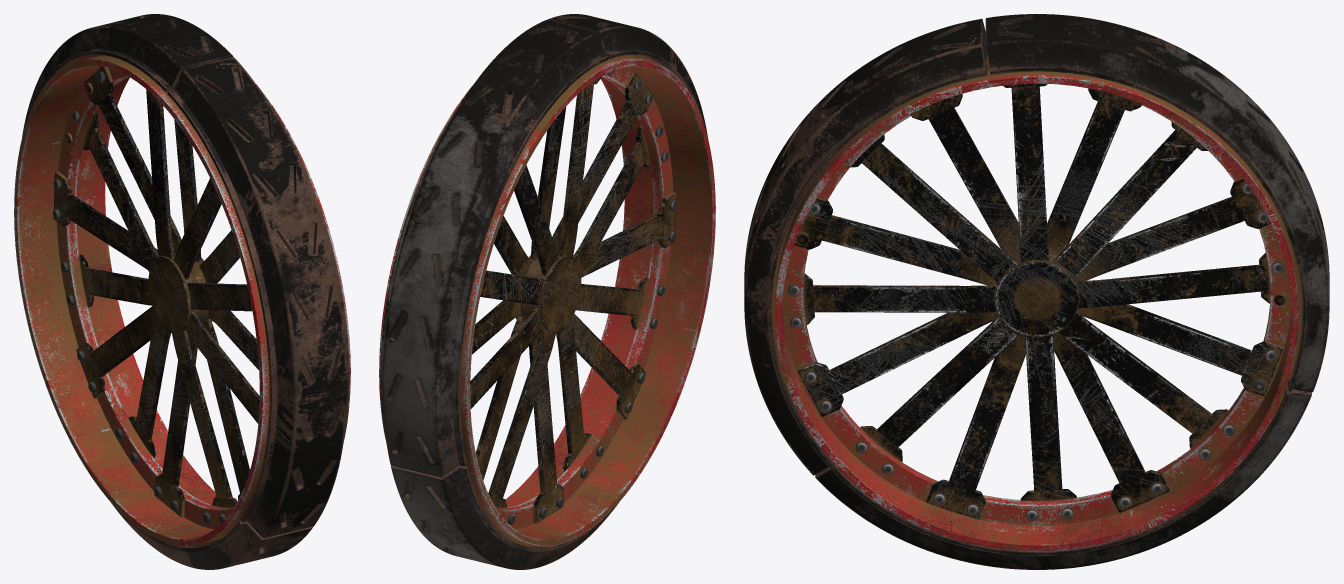
The model's file is llantaSteamCar3BikeHarry.obj.
3 renders of one model, left to right at view 1: azimuth 30°, elevation 25°; view 2: azimuth 150°, elevation 25°; view 3: azimuth 270°, elevation 25°, orthographic. The views are drawn at different scales.
Parts seen in each view (by area): view 1: Extruded.002_Material.003; view 2: Extruded.002_Material.003; view 3: Extruded.002_Material.003.
Boxes of the visible parts, <box> form: Extruded.002_Material.003: <box>14,14,350,569</box>; Extruded.002_Material.003: <box>379,14,715,569</box>; Extruded.002_Material.003: <box>744,14,1329,569</box>.
Size of the model in its own units: 0.0928 by 0.509 by 0.509.
